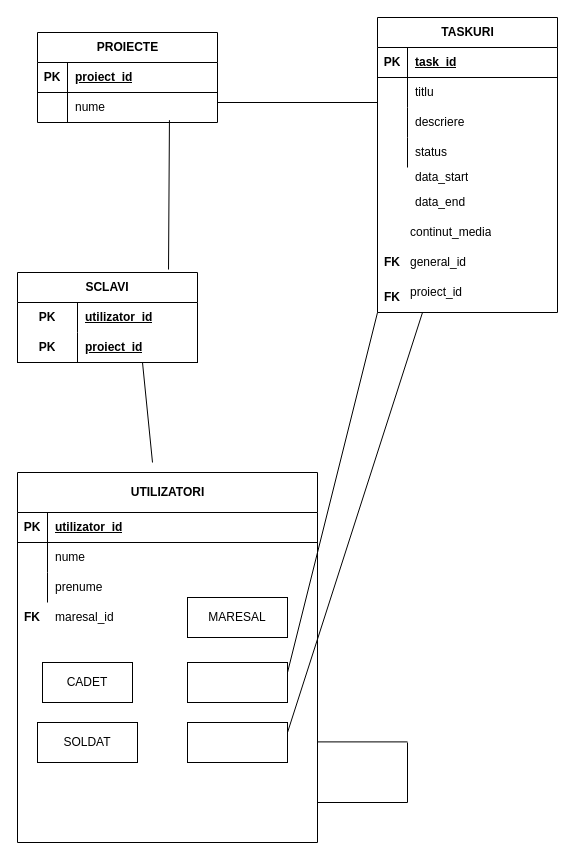
Image size: 575x860. Some labels were removed from this diagram. Each missing label, with the centre of its shape:
"COMANDANT" goes at (x=237, y=682).
"GENERAL" goes at (x=237, y=742).
